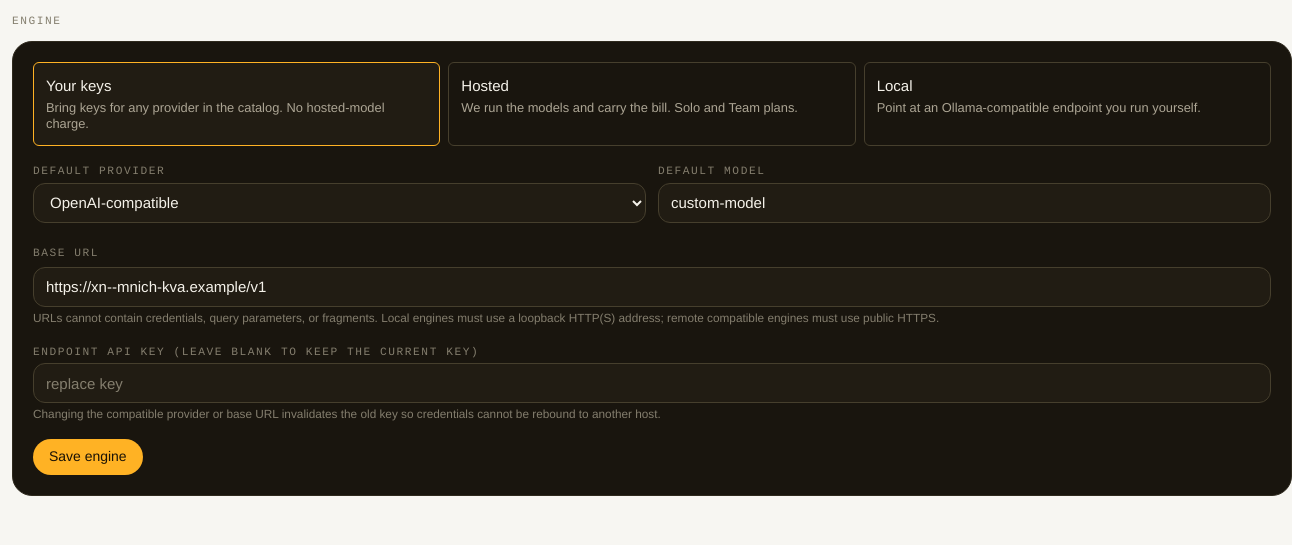
Test: engine mode UI contracts › persists the canonical compatible target and does not rotate a key for equivalent URL text
Replace the text in the field labelled "Base URL" with "https://MÜNICH.example:443/v1///". click: [652, 287]
box: [33,267,1271,307]
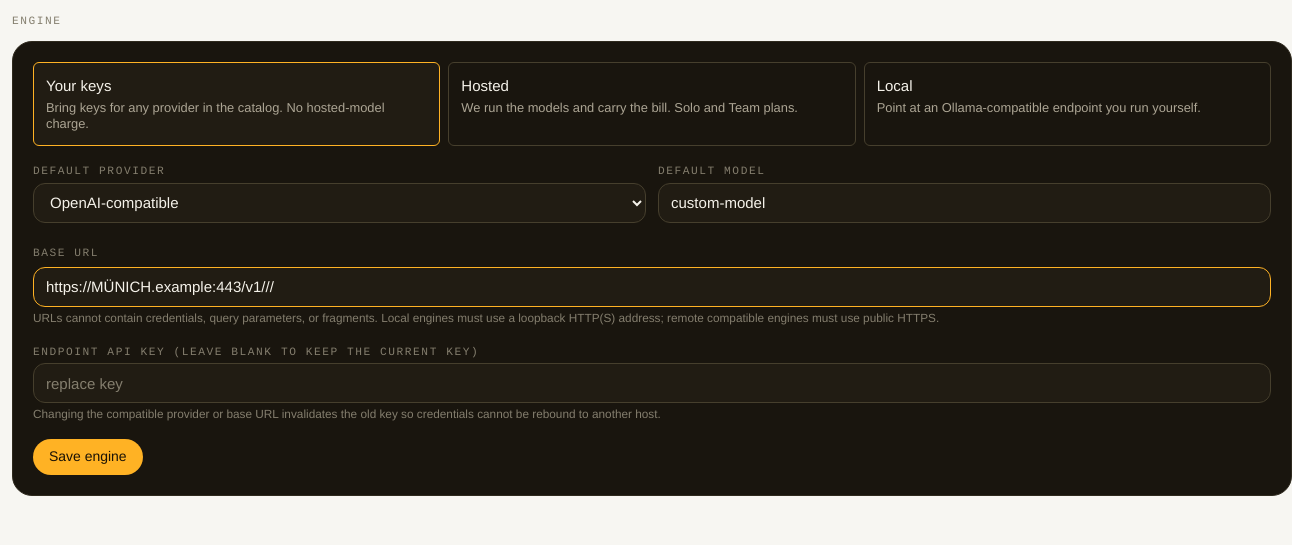
Click the button "Save engine". click: [88, 457]
box: [33,439,143,475]
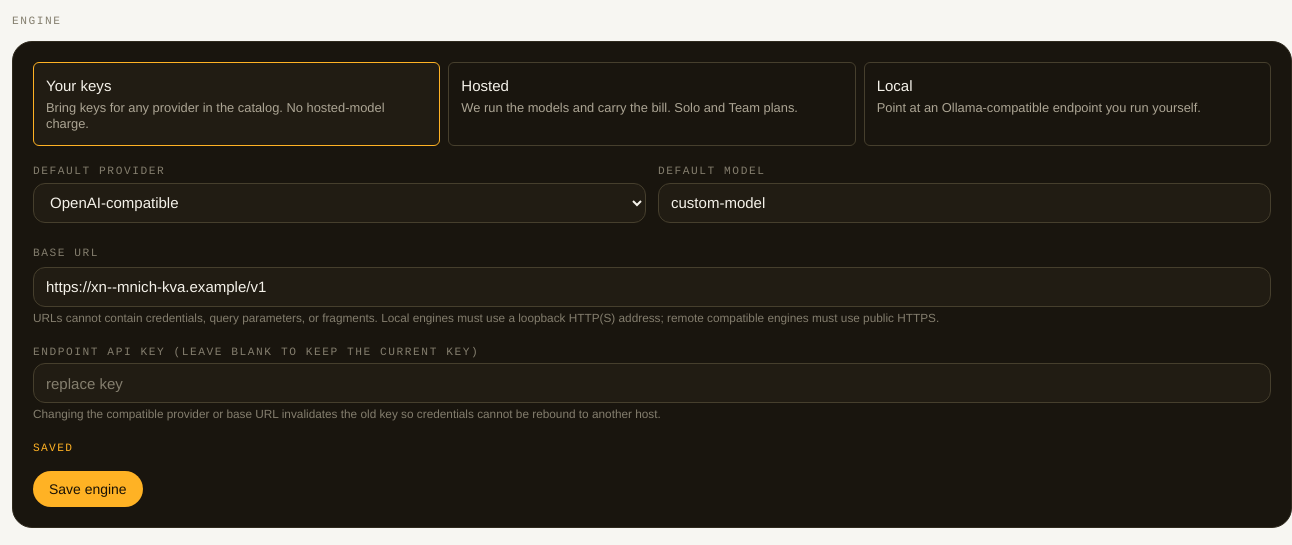
Now the field labelled "Base URL" holds "https://xn--mnich-kva.example/v1", box [33,267,1271,307]
